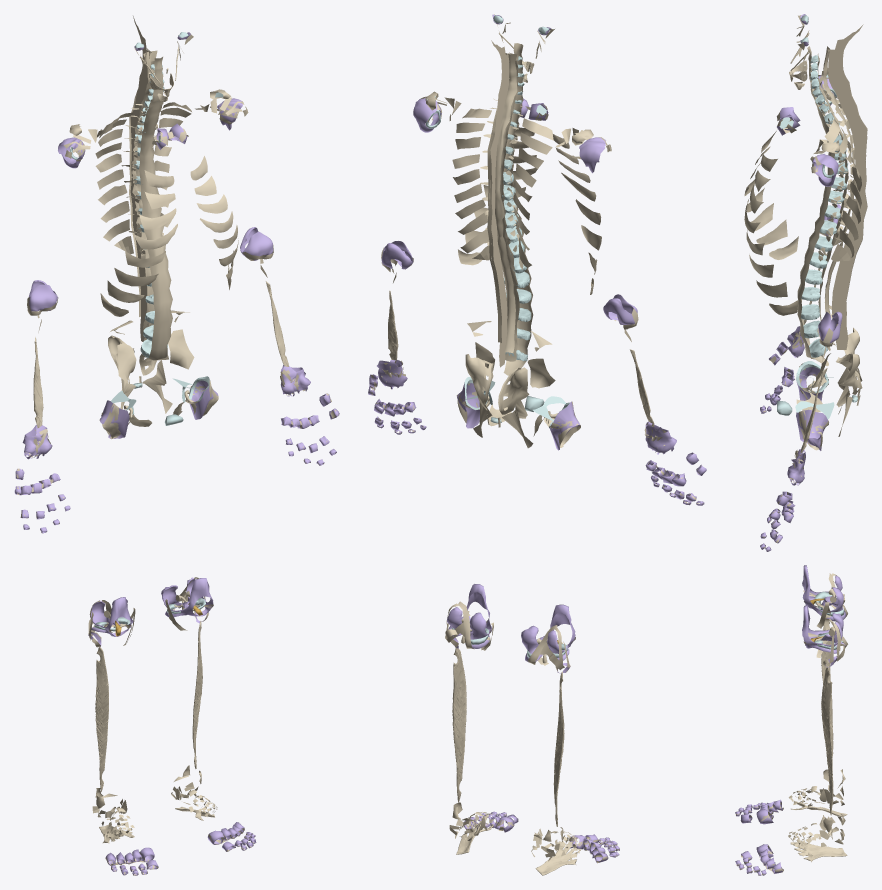
File: z-anatomy-joints.glb
The picture shows the model from 3 angles, left to right: view 1: azimuth 30°, elevation 25°; view 2: azimuth 150°, elevation 25°; view 3: azimuth 270°, elevation 25°; orthographic projection. The views are drawn at different scales.
Visible parts, largest first — view 1: Anterior longitudinal ligament.001, External intercostal membrane.r.001, Internal intercostal membrane.r.001, External intercostal membrane.l.001, Interosseous membrane of leg.r.001, Interspinous ligaments.001, Articular capsule of knee joint.l.001, Articular capsule of knee joint.r.001, Internal intercostal membrane.l.001, Articular capsule of elbow joint.l.001, Interosseous membrane of leg.l.001, Anterior sacro-iliac ligament.l.001 (+2 smaller); view 2: Internal intercostal membrane.l.001, Ligamenta flava.001, Interspinous ligaments.001, Internal intercostal membrane.r.001, Interosseous membrane of leg.l.001, Anterior longitudinal ligament.001, External intercostal membrane.r.001, Posterior longitudinal ligament.001, Articular capsule of knee joint.l.001, Articular capsule of knee joint.r.001, External intercostal membrane.l.001, Supraspinous ligament.001 (+5 smaller); view 3: Interspinous ligaments.001, External intercostal membrane.l.001, Internal intercostal membrane.l.001, Anterior longitudinal ligament.001, External intercostal membrane.r.001, Interosseous membrane of leg.l.001, Articular capsule of knee joint.l.001, Articular capsule of knee joint.r.001, Ligamenta flava.001, Articular capsule of hip joint.l.001, Posterior longitudinal ligament.001, Long plantar ligament.l.001 (+18 smaller).
Boxes of the visible parts, x1,y1,x2,y2 form: Anterior longitudinal ligament.001: [139, 57, 172, 361]; External intercostal membrane.r.001: [100, 170, 177, 316]; Internal intercostal membrane.r.001: [95, 112, 133, 254]; External intercostal membrane.l.001: [190, 156, 238, 289]; Interosseous membrane of leg.r.001: [95, 647, 108, 791]; Interspinous ligaments.001: [130, 50, 150, 341]; Articular capsule of knee joint.l.001: [161, 577, 213, 617]; Articular capsule of knee joint.r.001: [90, 597, 133, 636]; Internal intercostal membrane.l.001: [154, 102, 191, 235]; Articular capsule of elbow joint.l.001: [240, 227, 273, 260]; Interosseous membrane of leg.l.001: [192, 621, 202, 768]; Anterior sacro-iliac ligament.l.001: [168, 329, 194, 369]; Internal intercostal membrane.l.001: [452, 108, 491, 260]; Ligamenta flava.001: [495, 53, 517, 352]; Interspinous ligaments.001: [489, 52, 509, 367]; Internal intercostal membrane.r.001: [513, 118, 553, 269]; Interosseous membrane of leg.l.001: [452, 648, 466, 802]; Anterior longitudinal ligament.001: [503, 43, 533, 375]; External intercostal membrane.r.001: [553, 134, 601, 294]; Posterior longitudinal ligament.001: [500, 53, 519, 361]; Articular capsule of knee joint.l.001: [447, 584, 491, 648]; Articular capsule of knee joint.r.001: [521, 604, 575, 662]; External intercostal membrane.l.001: [458, 127, 537, 265]; Supraspinous ligament.001: [487, 108, 501, 342]; Interspinous ligaments.001: [827, 49, 867, 349]; External intercostal membrane.l.001: [744, 154, 798, 315]; Internal intercostal membrane.l.001: [824, 118, 861, 261]; Anterior longitudinal ligament.001: [797, 46, 834, 366]; External intercostal membrane.r.001: [744, 131, 798, 259]; Interosseous membrane of leg.l.001: [821, 666, 833, 815]; Articular capsule of knee joint.l.001: [802, 605, 845, 653]; Articular capsule of knee joint.r.001: [802, 565, 846, 621]; Ligamenta flava.001: [822, 46, 855, 341]; Articular capsule of hip joint.l.001: [796, 409, 828, 450]; Posterior longitudinal ligament.001: [817, 53, 848, 350]; Long plantar ligament.l.001: [790, 841, 847, 861].
Bounding box in the file's own units: 0.6665 × 1.58 × 0.2321.
